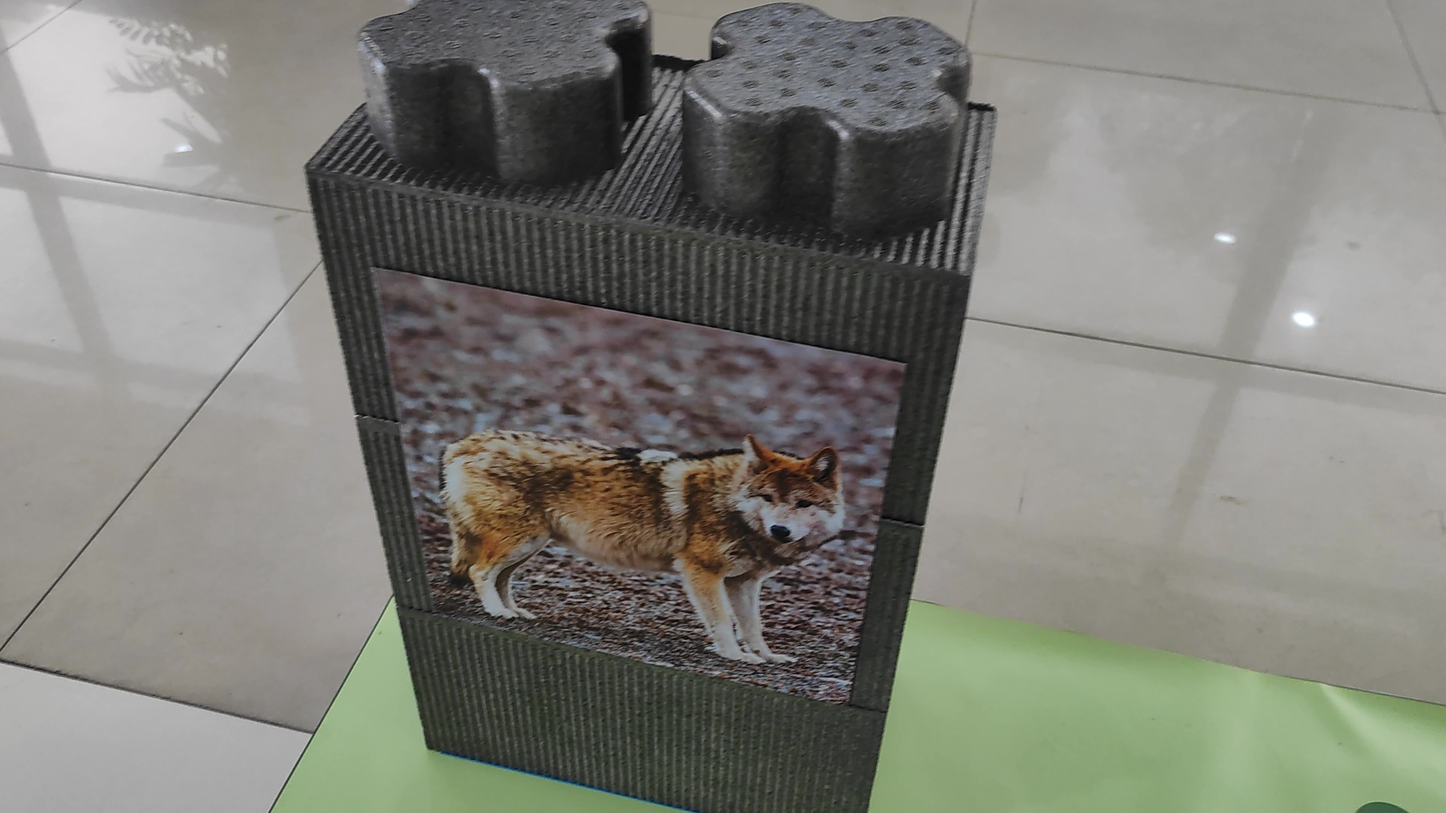wolf: (390, 287, 865, 701)
